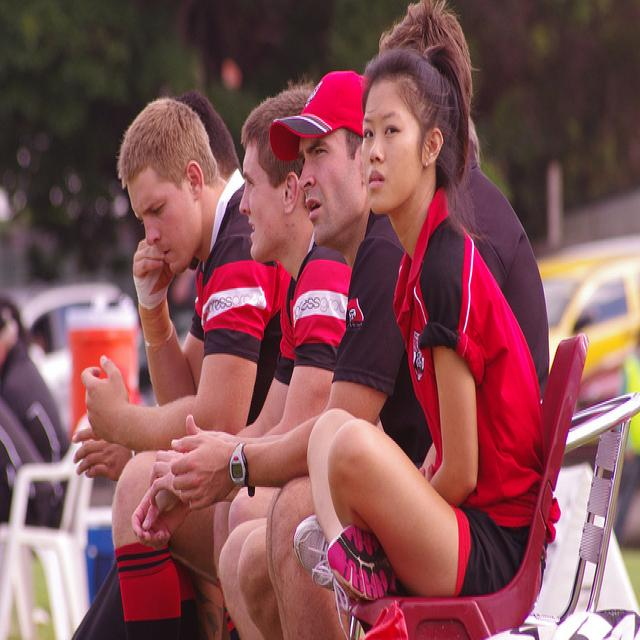Vehicle: (533, 224, 640, 412), (15, 284, 134, 439)
